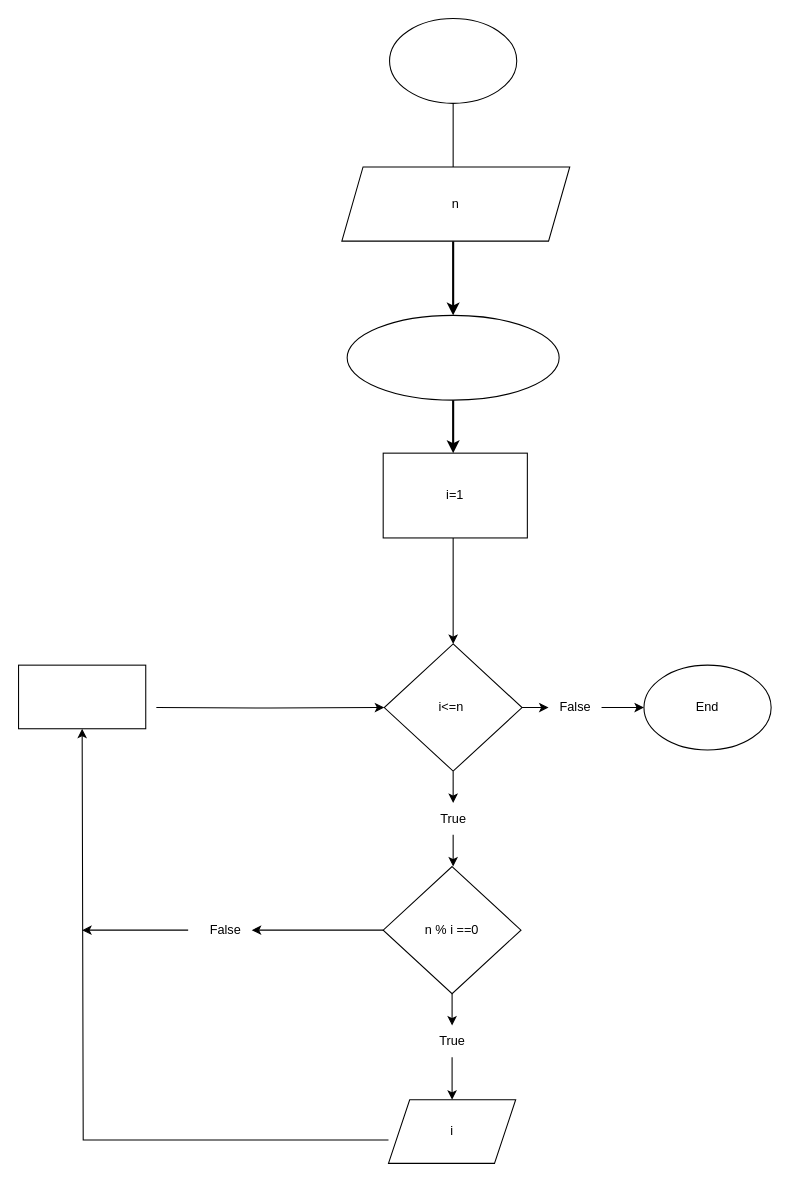
This 790x1182 diagram has some shape labels left out. The shapes that lost their labels are listed below. From the top down, each one's centre as x and y in pixels, then its label:
At (x=452, y=60): "START".
At (x=452, y=357): "bắt đầu vòng lặp For".
At (x=81, y=696): "i++".
